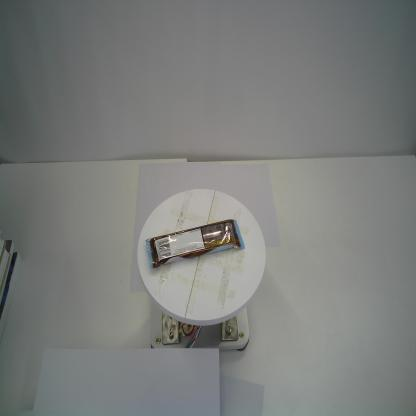Chocolate: (144, 218, 246, 270)
